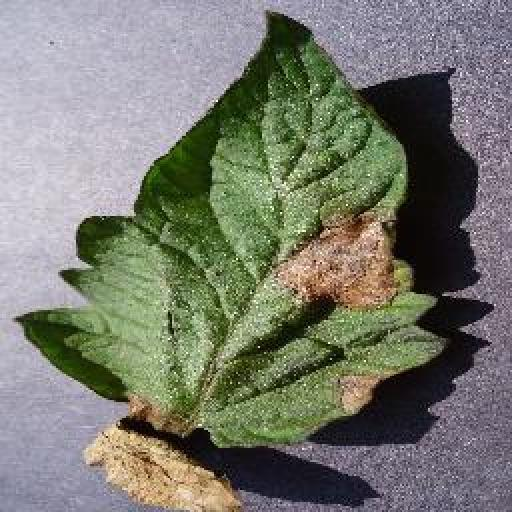Late Blight: (11, 9, 444, 512)
